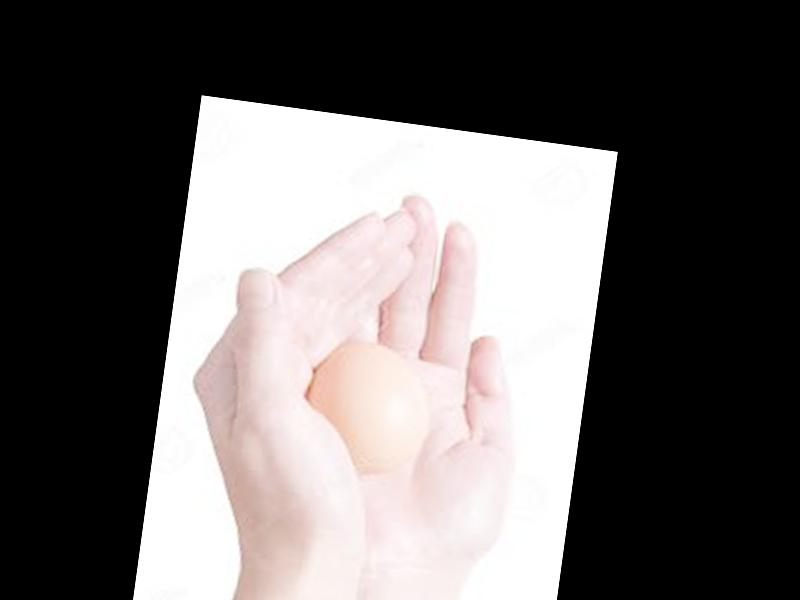Eggs: (302, 336, 432, 473)
